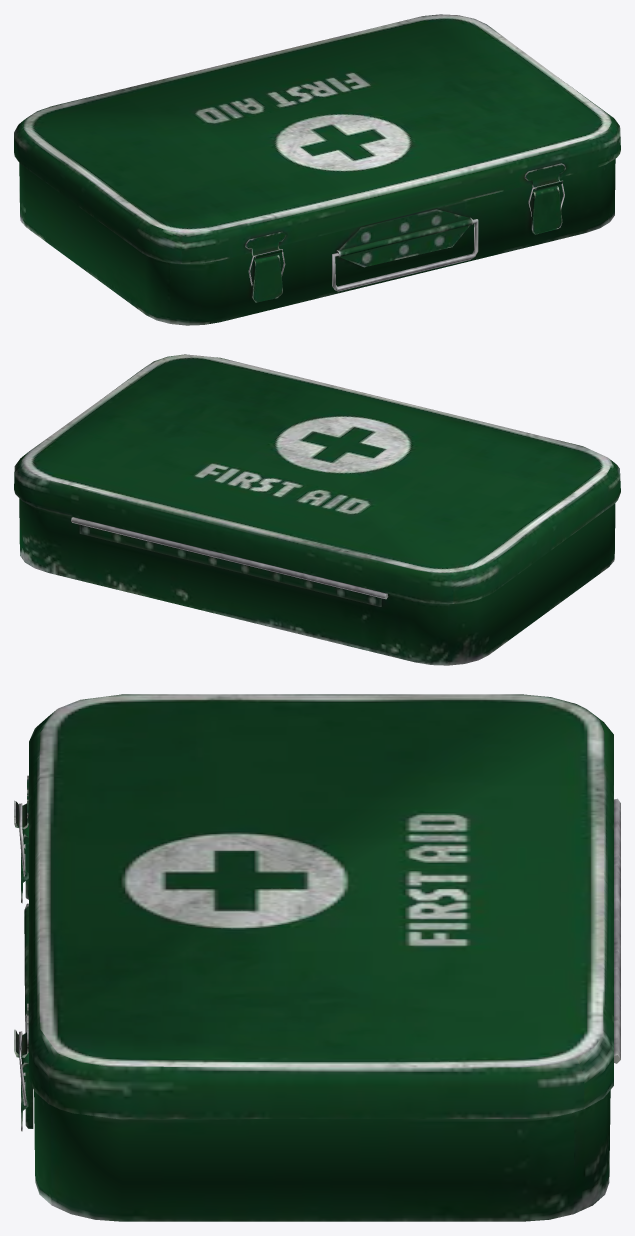
Rendered from medical_box.glb.
The picture shows the model from 3 angles, top to bottom: view 1: azimuth 30°, elevation 25°; view 2: azimuth 150°, elevation 25°; view 3: azimuth 270°, elevation 25°; orthographic projection. The views are drawn at different scales.
Parts seen in each view (by area): view 1: medical_box_latch; view 2: medical_box_latch; view 3: medical_box_latch.
Boxes of the visible parts, bbox=[...] form: medical_box_latch: bbox=[14, 14, 620, 325]; medical_box_latch: bbox=[14, 354, 620, 665]; medical_box_latch: bbox=[14, 694, 620, 1221].
Bounding box in the file's own units: 0.5255 × 0.0967 × 0.3501.
Materials: 1 (1 with a texture image).
